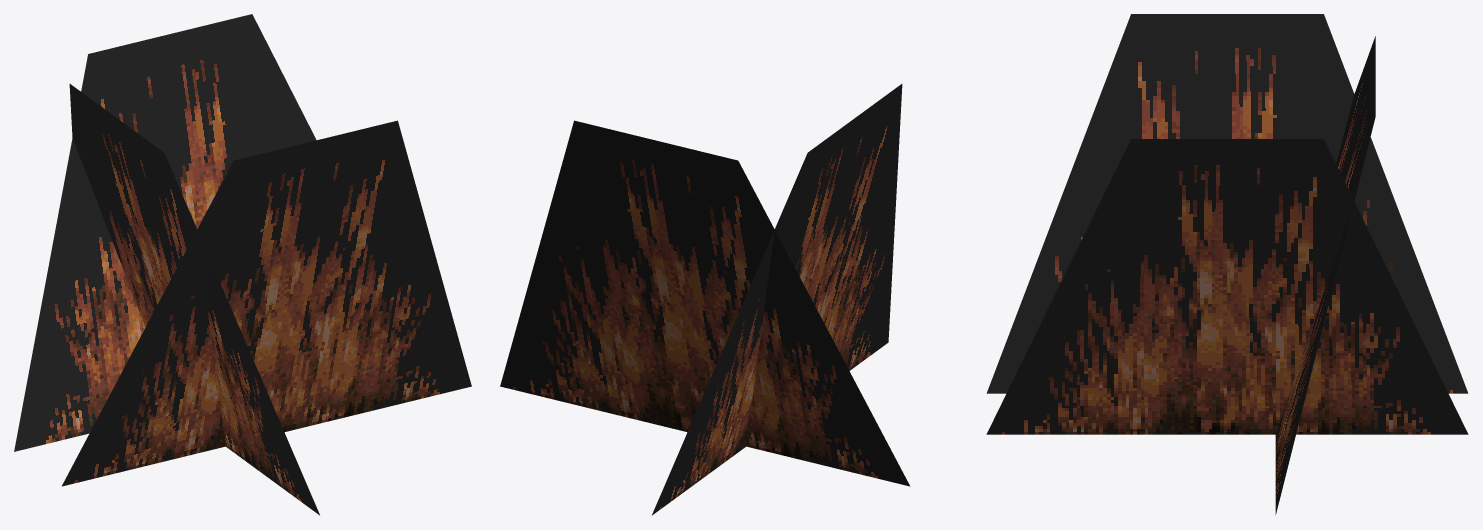
The model's file is Grass.gltf.
3 renders of one model, left to right at view 1: azimuth 30°, elevation 25°; view 2: azimuth 150°, elevation 25°; view 3: azimuth 270°, elevation 25°, orthographic.
Parts seen in each view (by area): view 1: Grass; view 2: Grass; view 3: Grass.
Boxes of the visible parts, x1=… form: Grass: x1=14, y1=14, x2=471, y2=515; Grass: x1=500, y1=84, x2=910, y2=515; Grass: x1=986, y1=14, x2=1468, y2=514.
Size of the model in its own units: 1 by 0.7727 by 1.
1 material, 1 textured.
